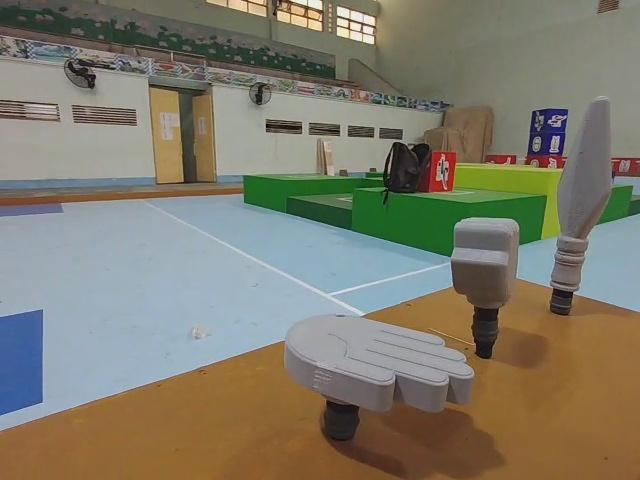Fist: (450, 213, 522, 362)
Hand: (285, 311, 476, 453)
Sph: (547, 97, 613, 315)
